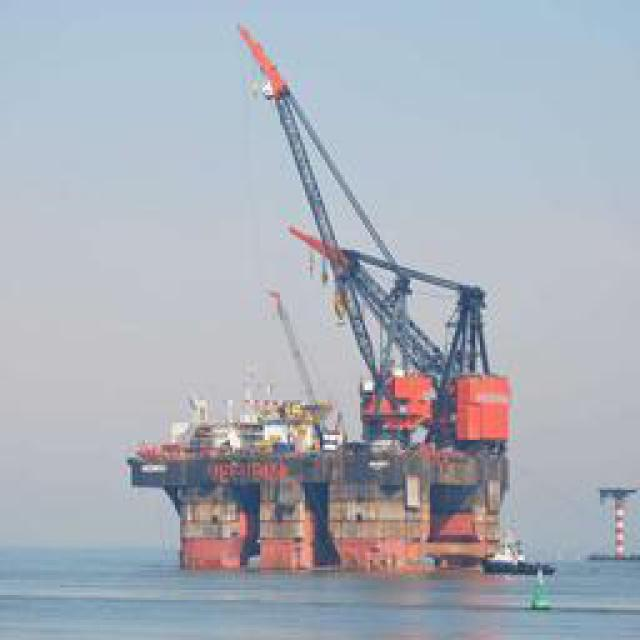Ship: (161, 21, 569, 586)
